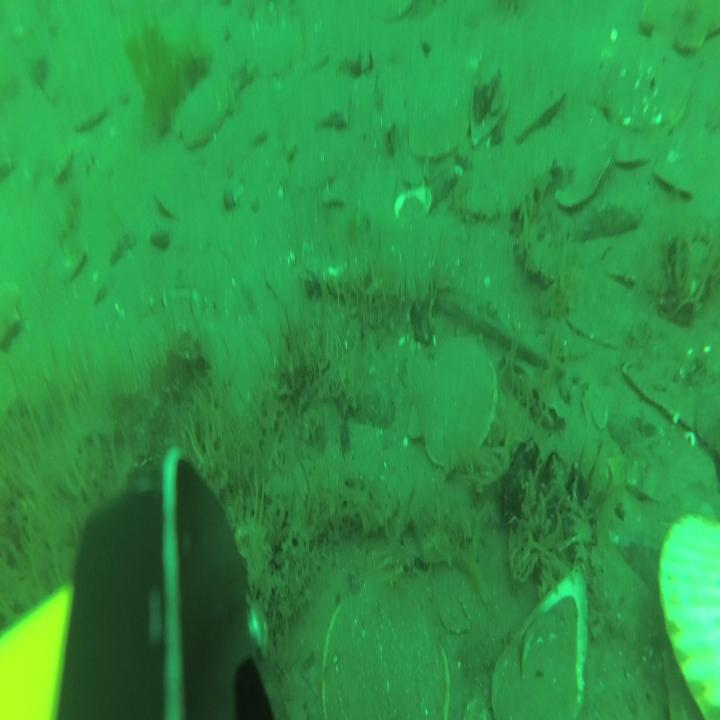scallop: (659, 497, 719, 720), (408, 327, 499, 472), (606, 45, 690, 138), (550, 127, 619, 206), (174, 73, 236, 151), (640, 3, 720, 61), (409, 93, 464, 168), (513, 78, 569, 144), (255, 26, 304, 82), (653, 154, 696, 200), (613, 122, 655, 167), (0, 278, 23, 356)
